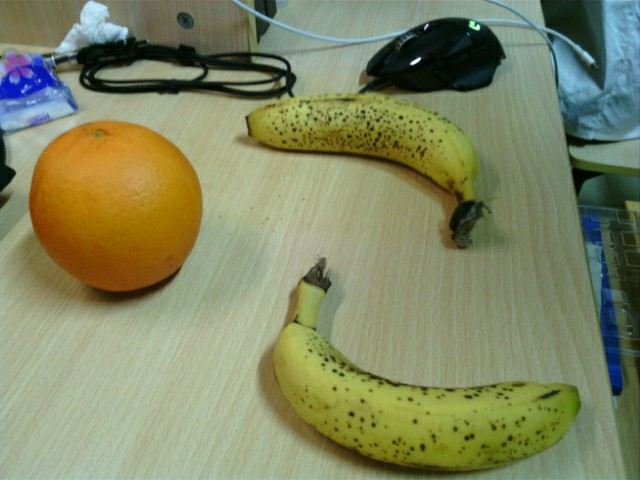normal_banana: (274, 258, 584, 467), (245, 94, 489, 250)
normal_orange: (30, 120, 204, 291)
